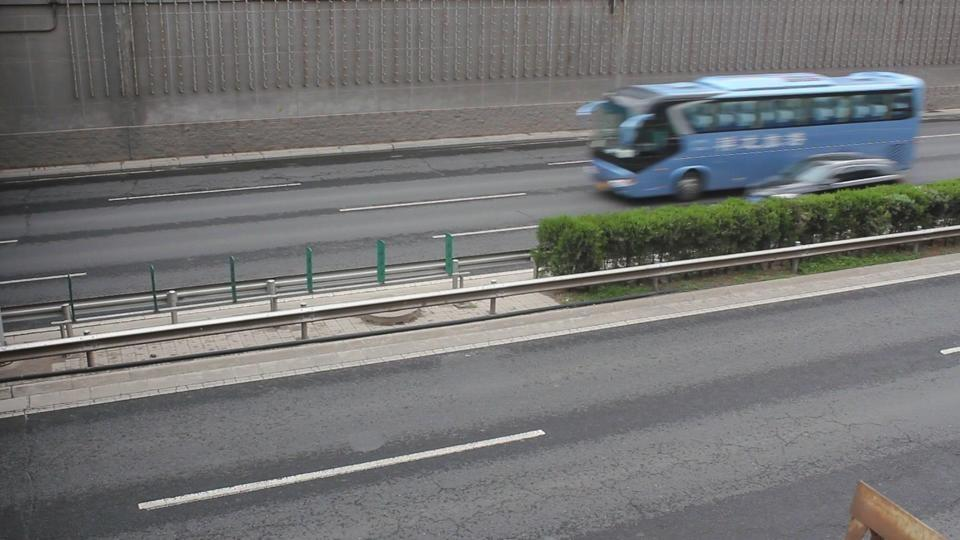car: (742, 155, 911, 202)
